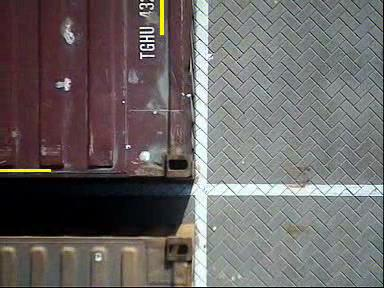groundmarker_2: (195, 240, 243, 288), (195, 72, 243, 119)
